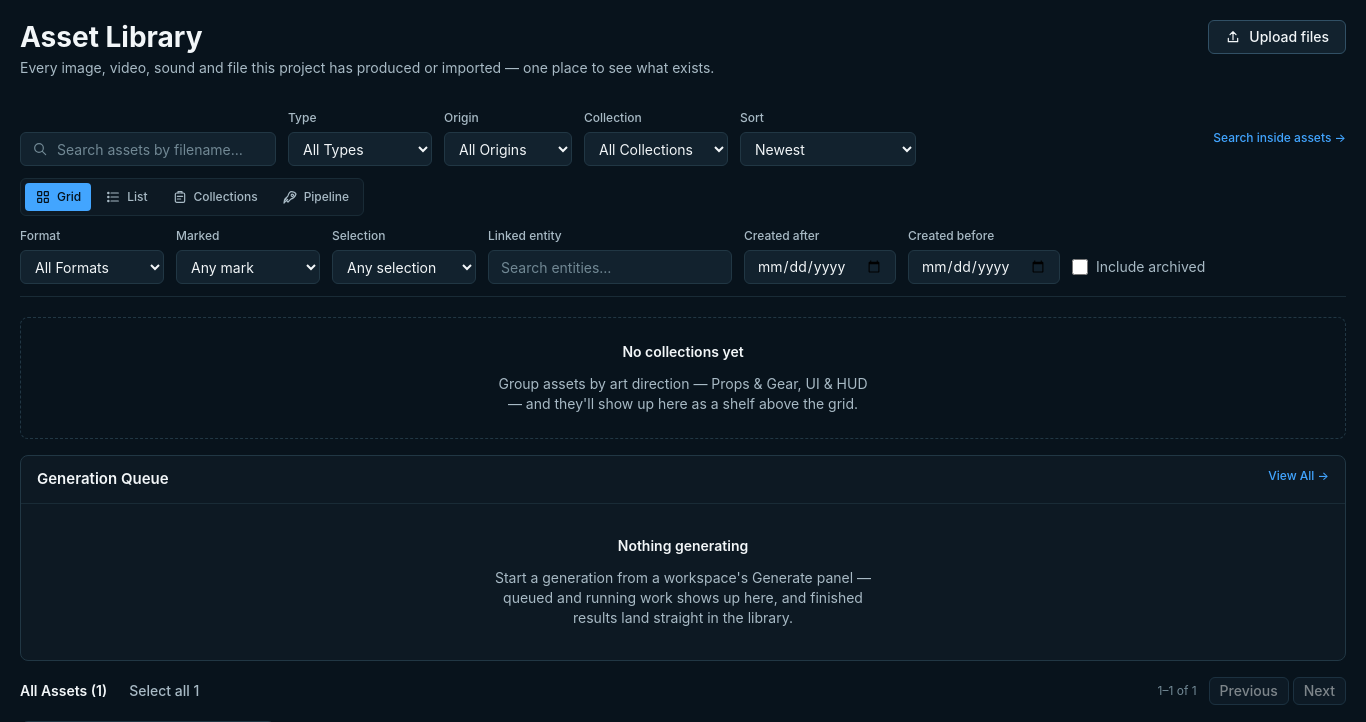
Test case: Assets workspace › switches to the list view and shows the same badge column
This screenshot has width=1366, height=722.
Click the button "List" at (126, 197), box [95,183,158,211]
(page scrolled)
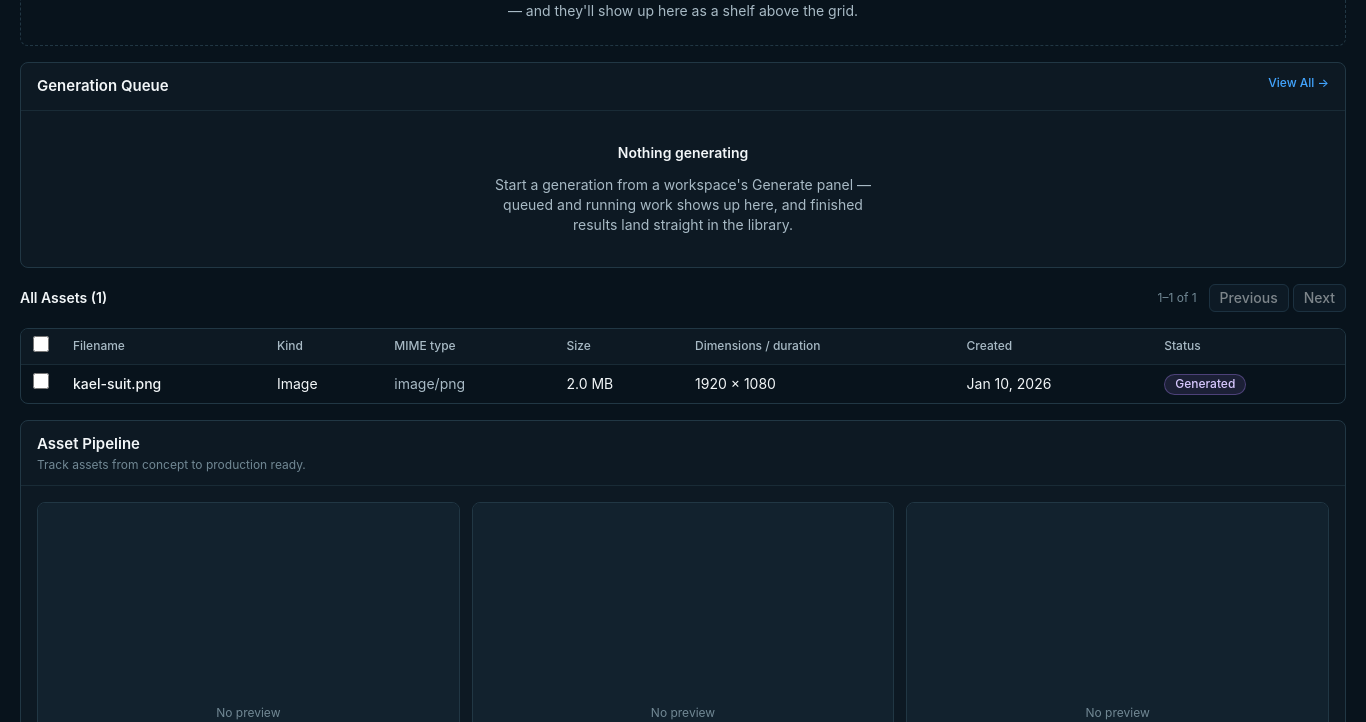
Expected: the text "kael-suit.png" is shown, [61,364,265,402]
Result: the text "image/png" is shown at [382,364,554,402]
